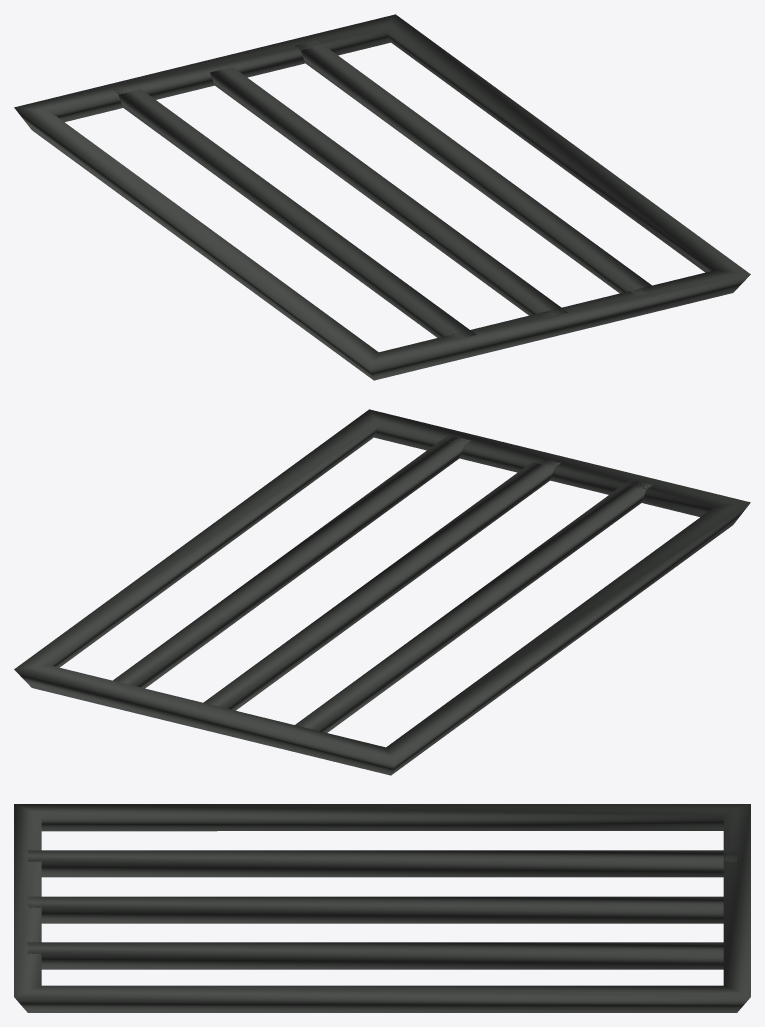
Rendered from PH_INST_SWORDLIGHT_CELLDOOR.fbx.
3 renders of one model, top to bottom at view 1: azimuth 30°, elevation 25°; view 2: azimuth 150°, elevation 25°; view 3: azimuth 270°, elevation 25°, orthographic. The views are drawn at different scales.
Visible parts, largest first — view 1: PH_INST_SWORDLIGHT_CELLDOOR; view 2: PH_INST_SWORDLIGHT_CELLDOOR; view 3: PH_INST_SWORDLIGHT_CELLDOOR.
Part boxes in pixels (box(x1,y1,x2,y2)): PH_INST_SWORDLIGHT_CELLDOOR: box(14, 14, 750, 380); PH_INST_SWORDLIGHT_CELLDOOR: box(14, 409, 750, 775); PH_INST_SWORDLIGHT_CELLDOOR: box(14, 804, 750, 1012).
Bounding box in the file's own units: 14620 × 757 × 23580.
Materials: 1 (1 with a texture image).
